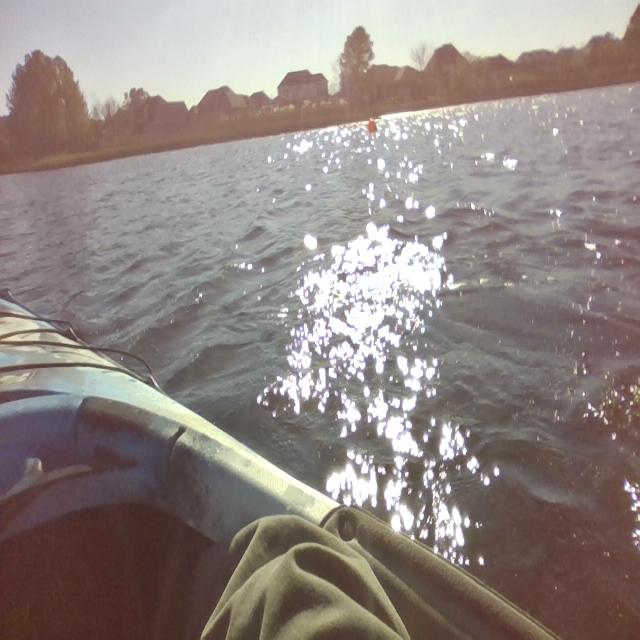Buoy: (359, 110, 386, 146)
